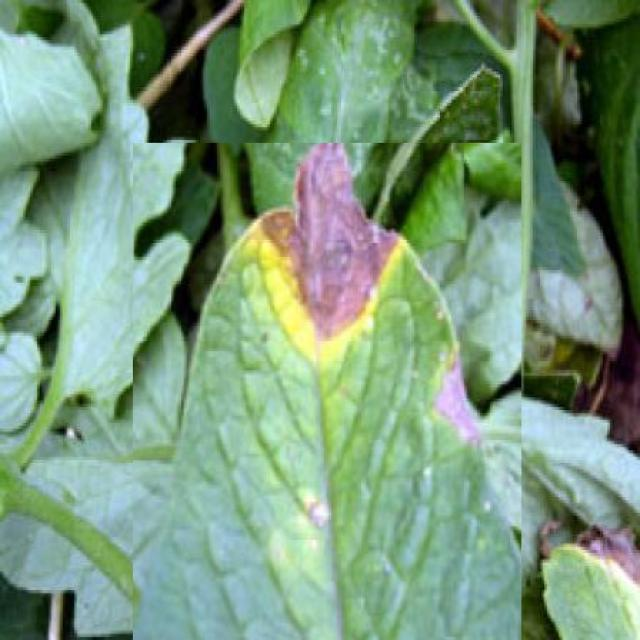Early Blight: (133, 143, 521, 640)
